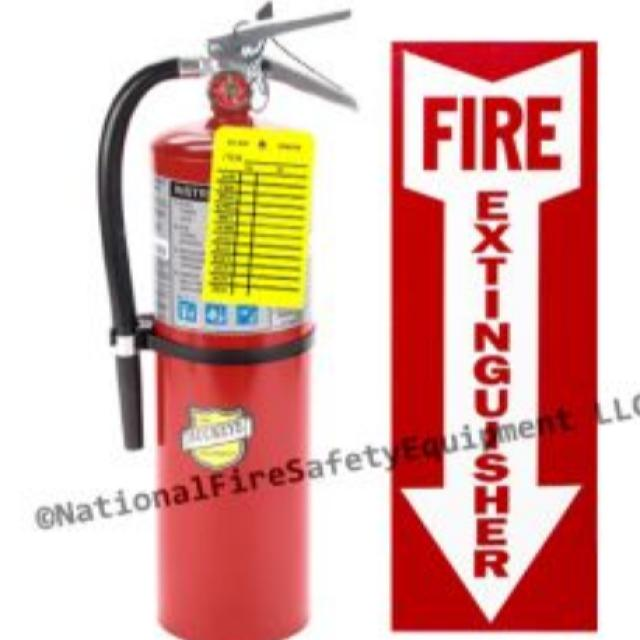fire extinguisher: (75, 5, 357, 630)
fire signage: (382, 31, 610, 633)
